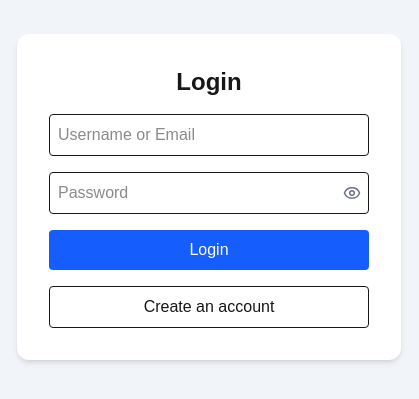
Test case: LoginPage › shows error if login fails
Step 1. Type "john" into the field with placeholder "Username or Email" → point(209, 135), box [49,114,369,156]
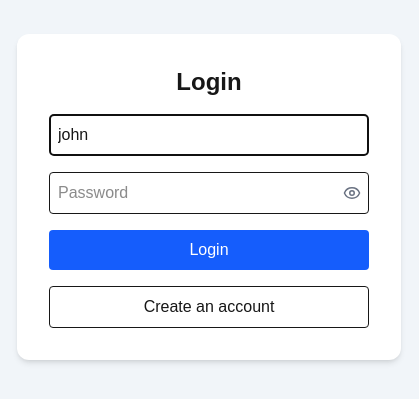
Step 2. Type "bad" into the password field with placeholder "Password" → point(209, 193), box [49,172,369,214]
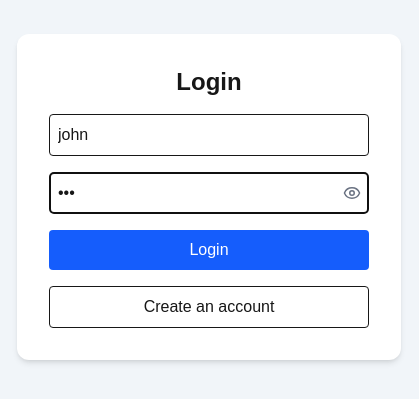
Step 3. Click the button "Login" → point(209, 250), box [49,230,369,270]
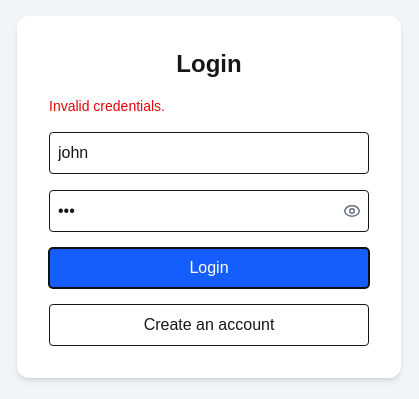
Expected: the text "Invalid credentials." is shown, [49,98,165,114]
